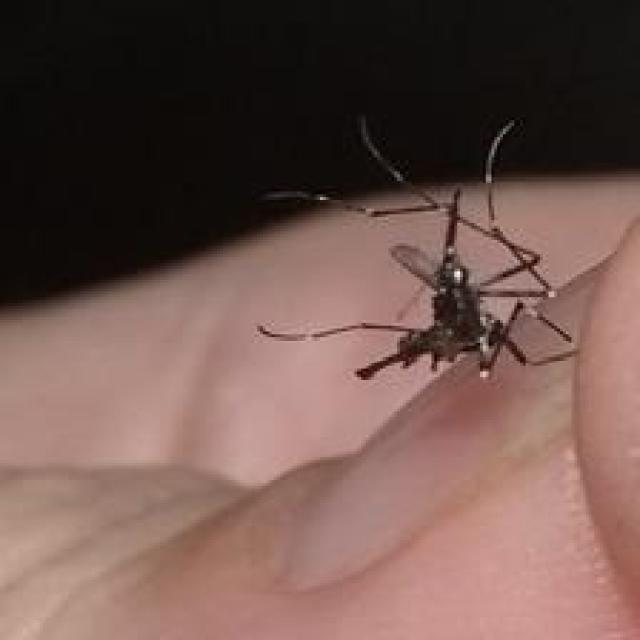Aedes albopictus: (254, 113, 580, 384)
